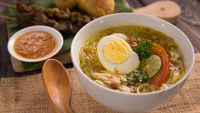soto: (75, 12, 192, 104)
